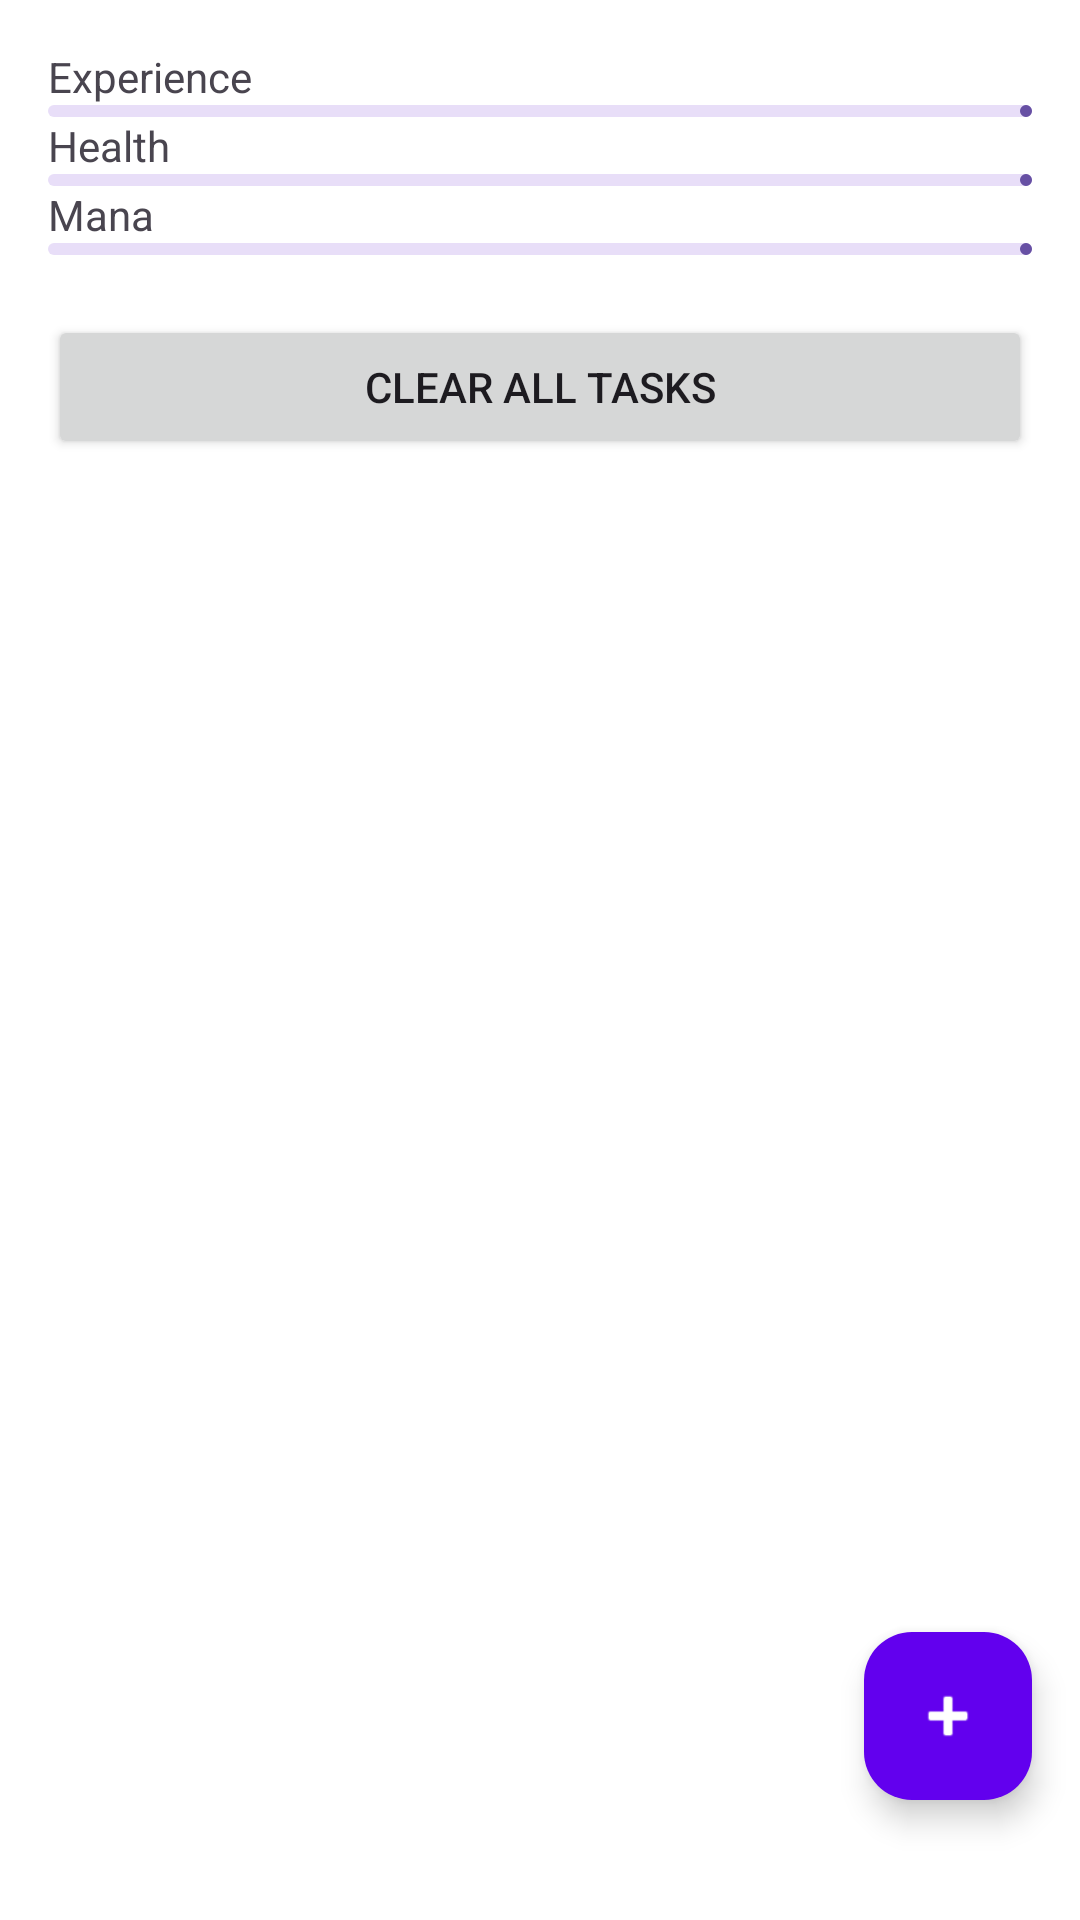

Named icons in this screenshot (1080x1920) and their centers, (x=x, y=y):
Add Task: (x=948, y=1716)
